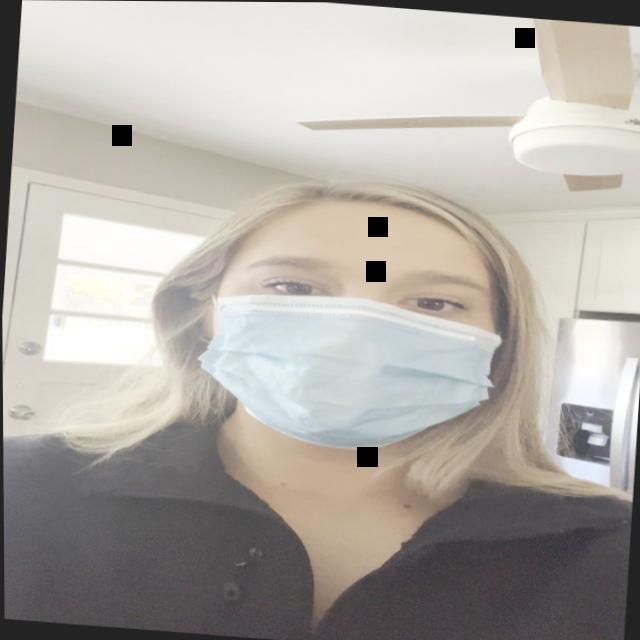Mask: (186, 188, 510, 459)
